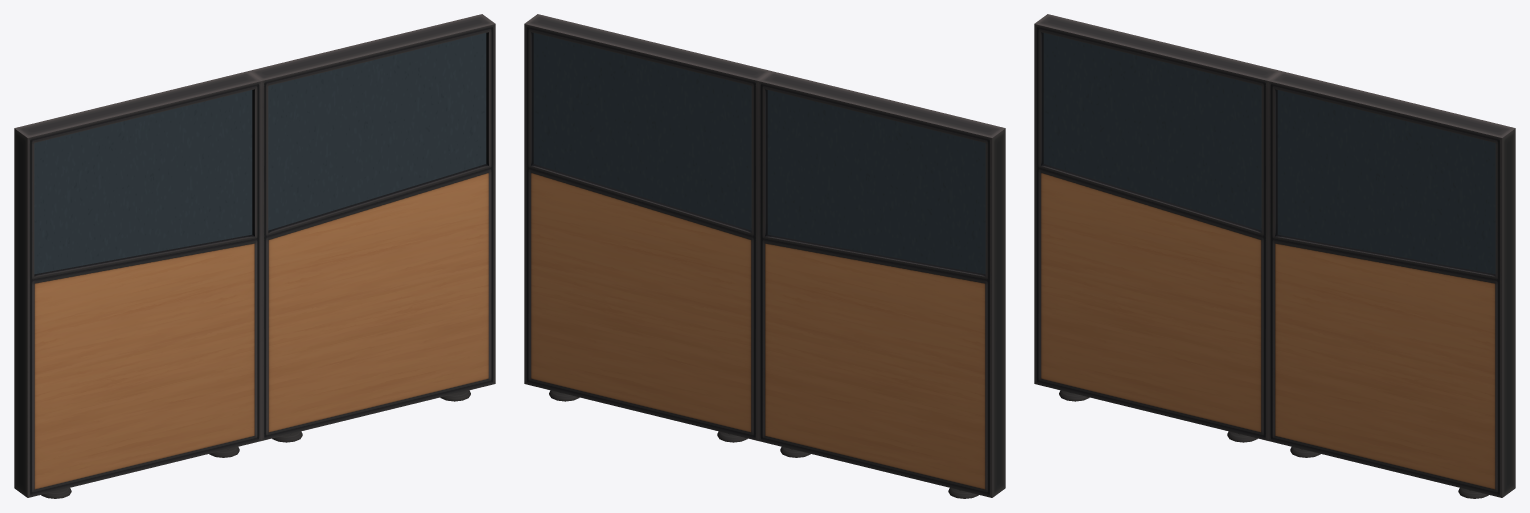
Rendered from OfficePartition01_2.FBX.
3 views of the same model, side by side, from view 1: azimuth 30°, elevation 25°; view 2: azimuth 150°, elevation 25°; view 3: azimuth 330°, elevation 25° (orthographic).
Parts seen in each view (by area): view 1: OfficePartition01_2; view 2: OfficePartition01_2; view 3: OfficePartition01_2.
Part boxes in pixels (box(x1,y1,x2,y2)): OfficePartition01_2: box(14, 14, 495, 498); OfficePartition01_2: box(524, 14, 1005, 498); OfficePartition01_2: box(1034, 14, 1515, 498).
Size of what is drawn, in the model's own units: 2 by 1.5 by 0.12.
